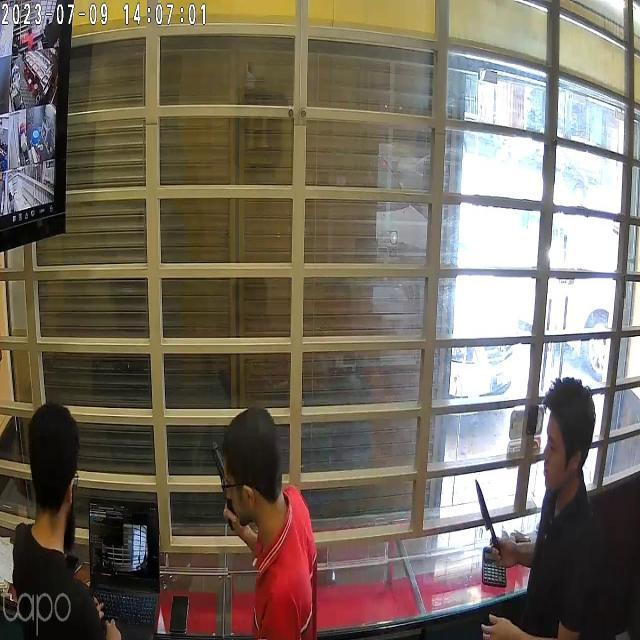Gun: (205, 440, 227, 505)
Knife: (466, 473, 512, 552)
